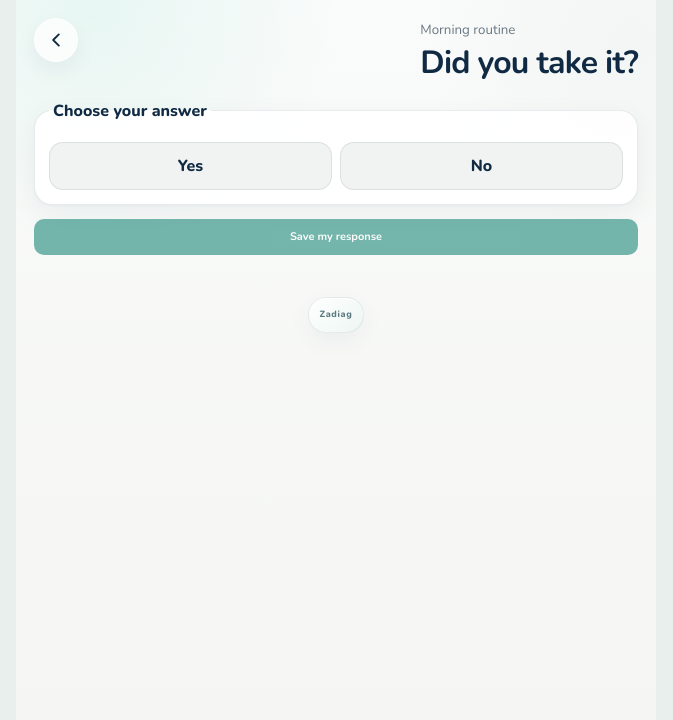
Test: structured routine response screen › stores an honest no response without presenting it as an error
Expected: the button "Save my response" is disabled, [34,219,638,255]
Click the button "No": coordinates (482, 166) [340,142,623,190]
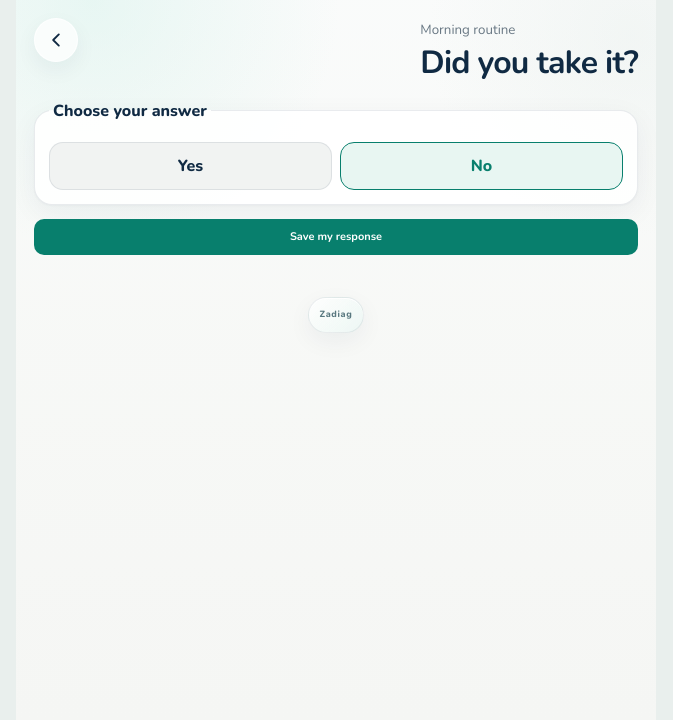
Expected: the button "Save my response" is enabled
Click the button "Save my response": coordinates (336, 237) [34,219,638,255]
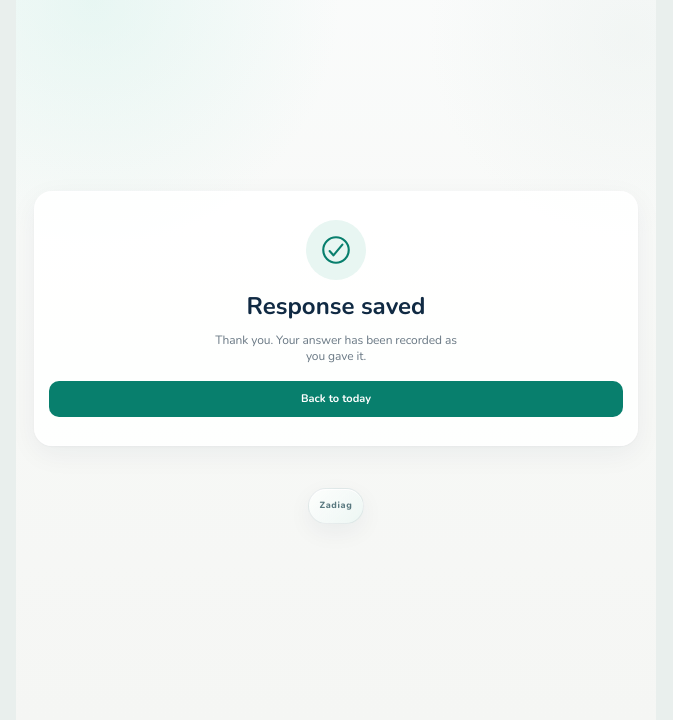
Expected: the text "Response saved" is shown, [246,290,425,322]
